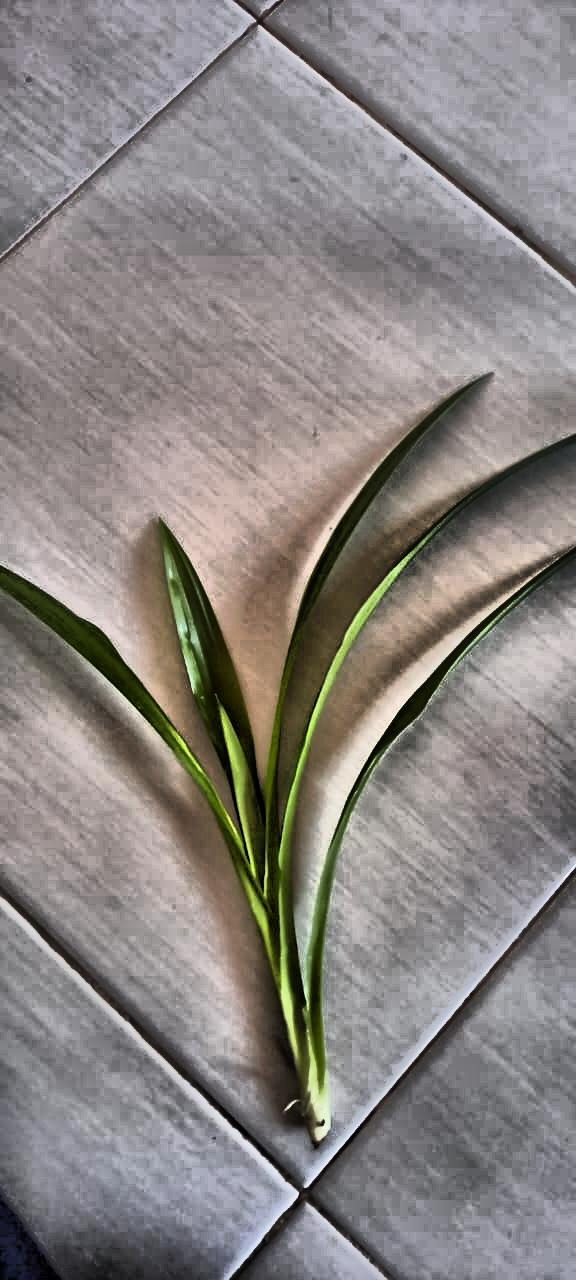daun pandan: (0, 386, 575, 1145)
